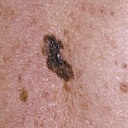Melanoma: (43, 33, 78, 82)
